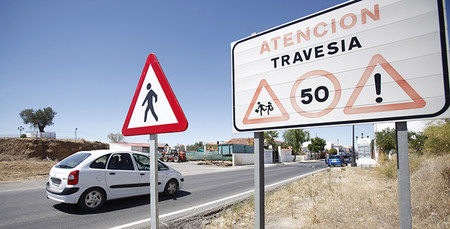Cartel: (232, 1, 449, 129), (122, 52, 188, 132)
Poste: (395, 123, 414, 228), (146, 132, 164, 229), (252, 132, 267, 229)
Vehiculo: (43, 147, 186, 208)
